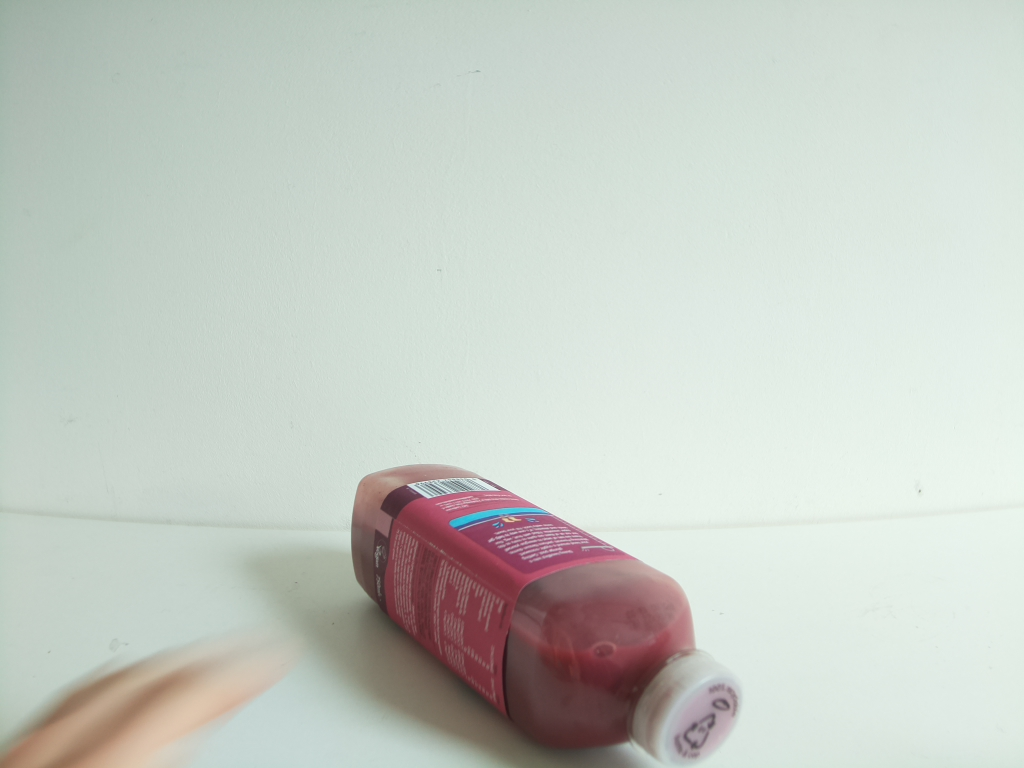juice: (342, 456, 749, 768)
